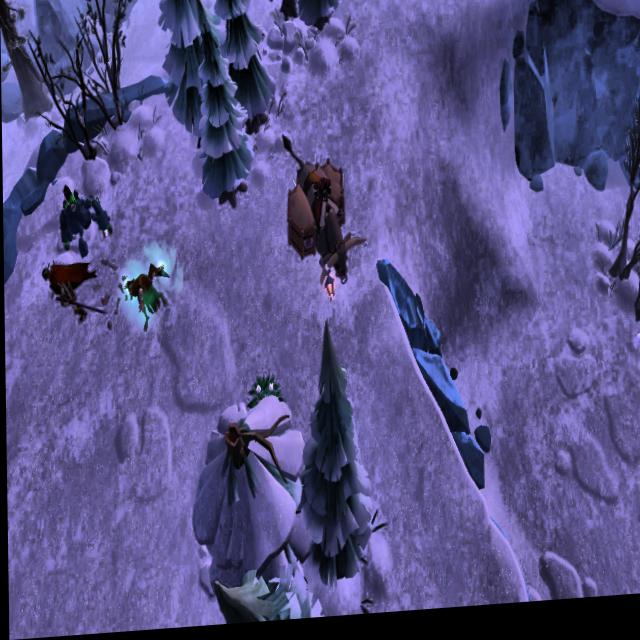enemy_factionUndead: (42, 256, 94, 335), (125, 260, 168, 344)
fiber_t3: (245, 374, 283, 422)
